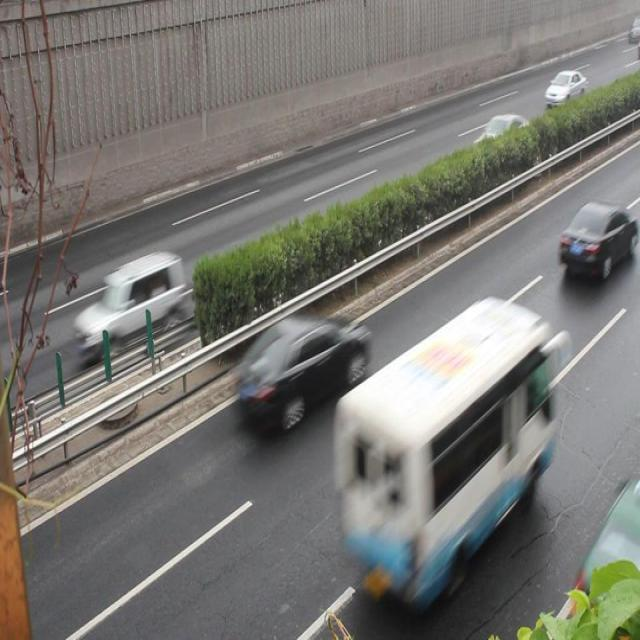car: (236, 310, 366, 422), (71, 250, 179, 357), (556, 200, 630, 278), (467, 113, 528, 173), (542, 67, 584, 108)
